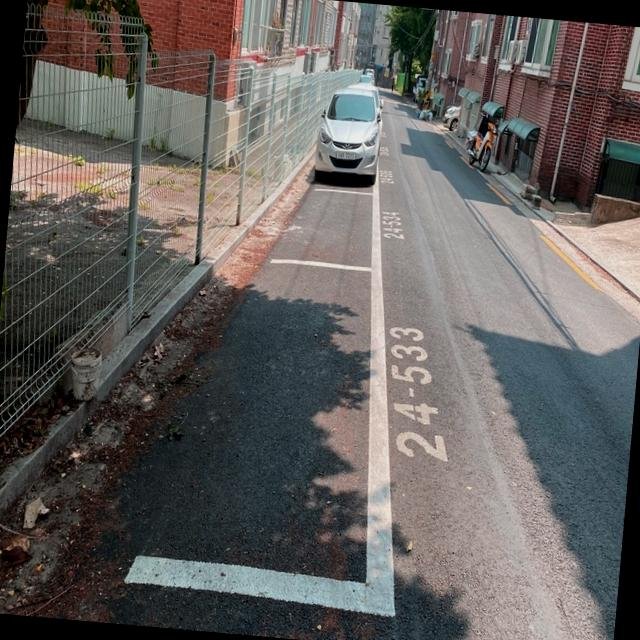car: (313, 84, 388, 175)
free: (91, 259, 401, 618), (254, 186, 390, 278)
